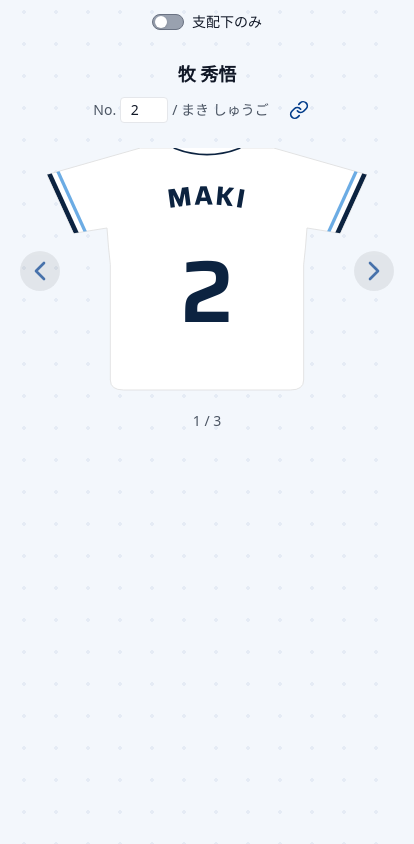
Scenario: UniformViewer › wraps around at the end of the list
This screenshot has width=414, height=844.
Click the button named "次の選手". click: (304, 271)
box: [207, 148, 402, 395]
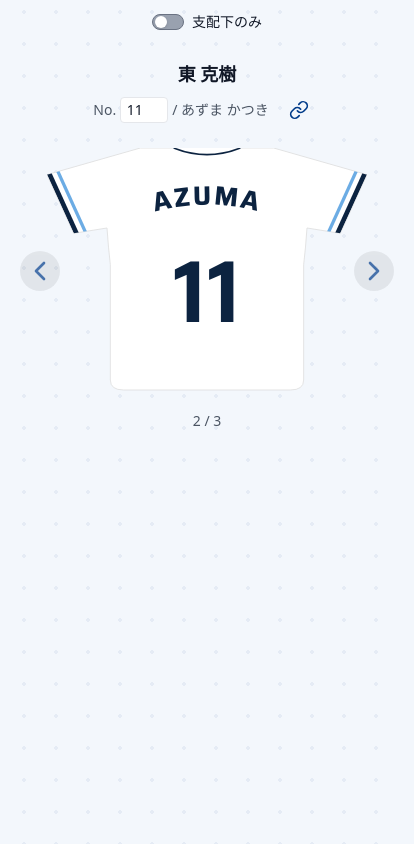
Click the button named "次の選手". click: (304, 271)
box: [207, 148, 402, 395]
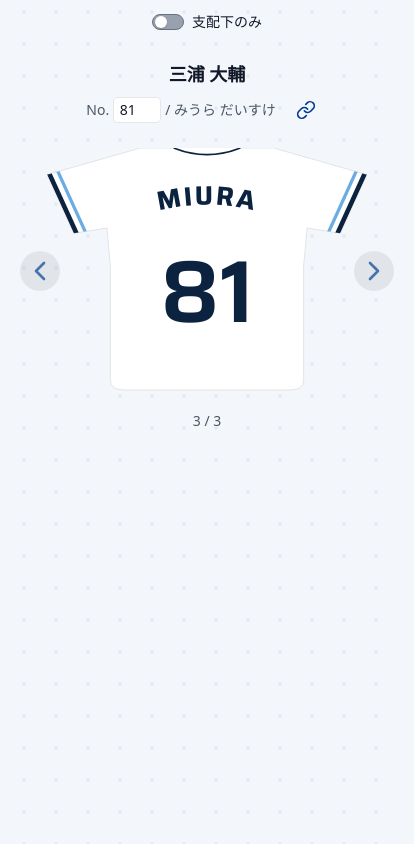
Click the button named "次の選手". click: (304, 271)
box: [207, 148, 402, 395]
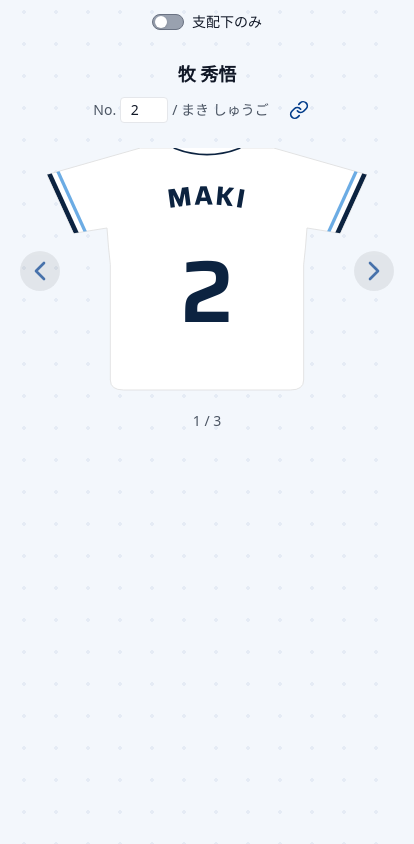
Now the text "牧 秀悟" is shown, box [178, 62, 236, 86]
